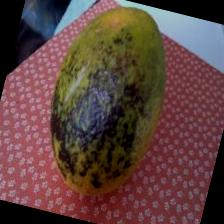Orange Rotten: (25, 0, 198, 215)
